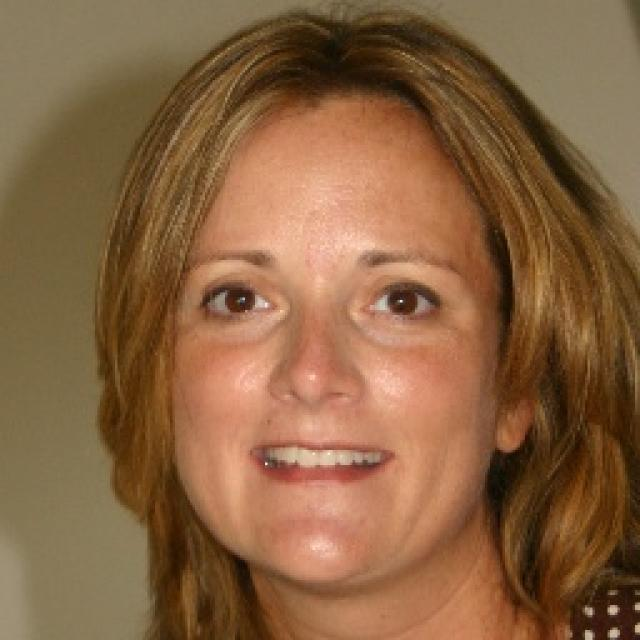earlobe: (493, 401, 531, 454)
eye: (364, 285, 440, 321), (200, 283, 278, 318)
nose: (270, 386, 368, 432)
